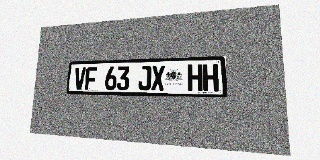3: (117, 66, 130, 90)
6: (105, 66, 117, 90)
F: (85, 67, 97, 90)
H: (203, 64, 219, 91), (188, 64, 203, 91)
J: (138, 66, 151, 91)
V: (74, 67, 86, 90)
X: (151, 65, 165, 91)
